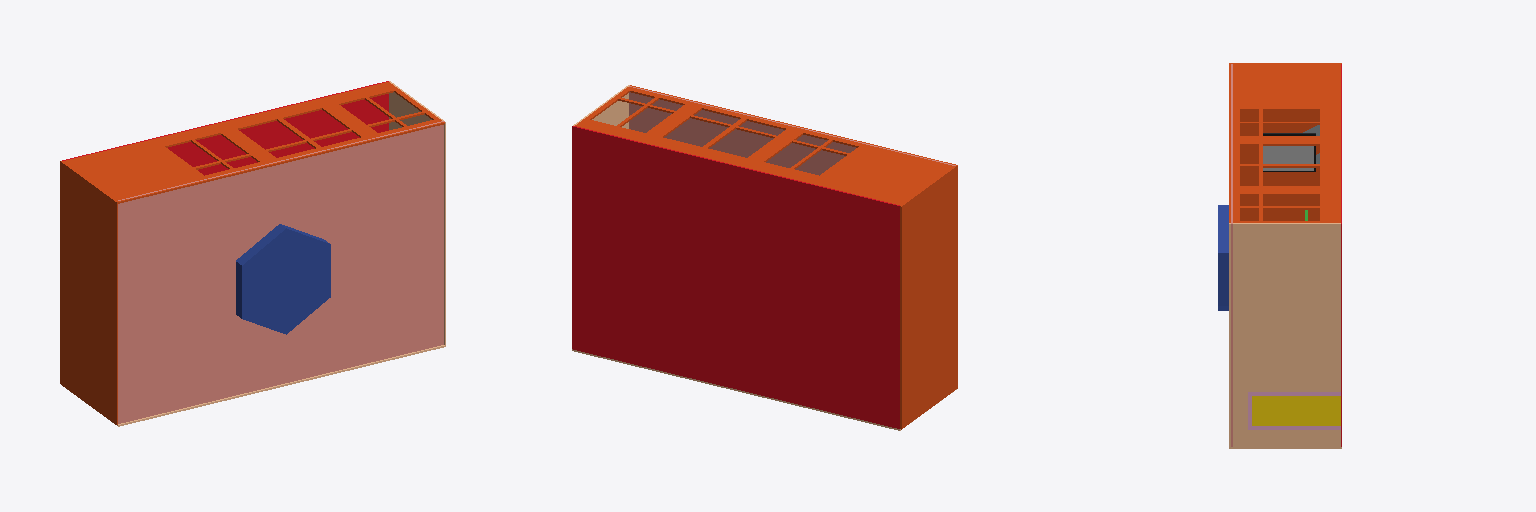
File: tinkerRoom.obj
3 renders of one model, left to right at view 1: azimuth 30°, elevation 25°; view 2: azimuth 150°, elevation 25°; view 3: azimuth 270°, elevation 25°, orthographic.
Parts seen in each view (by area): view 1: obj_0; view 2: obj_0; view 3: obj_0.
Part boxes in pixels (left/top/right/bottom): obj_0: left=60, top=81, right=445, bottom=426; obj_0: left=572, top=85, right=957, bottom=430; obj_0: left=1218, top=63, right=1341, bottom=448.
Bounding box in the file's own units: 100 × 65.5 × 33.